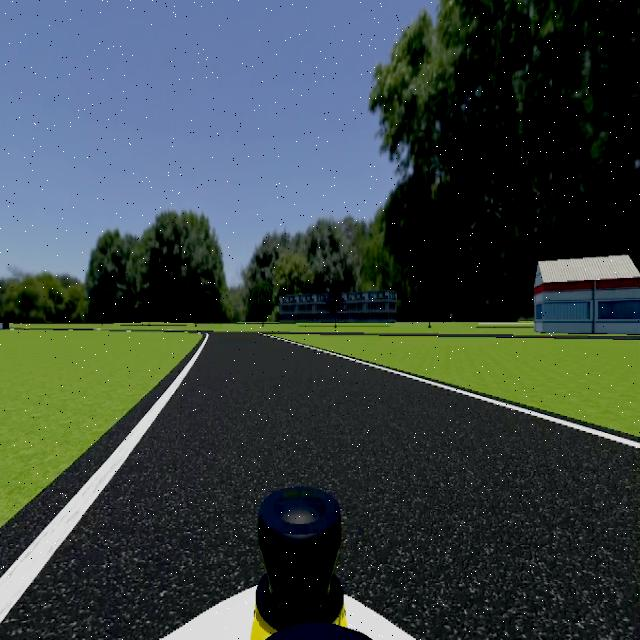road: (0, 335, 640, 640)
solid_line: (0, 336, 208, 626), (268, 336, 640, 450)
